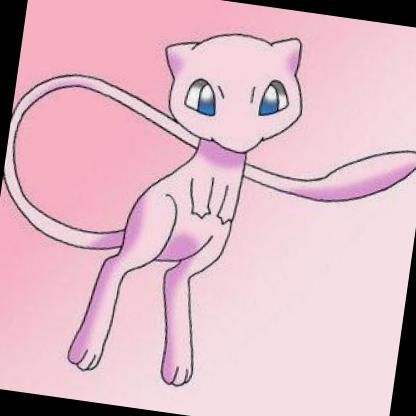Mew: (0, 0, 401, 392)
